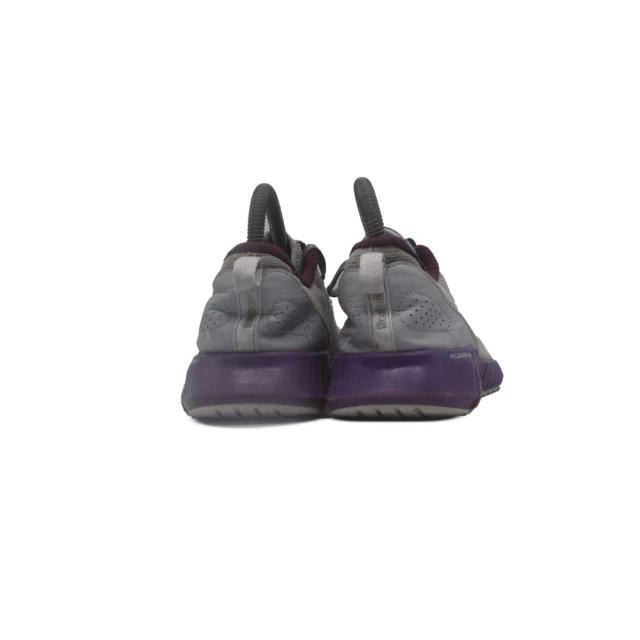heel: (332, 232, 474, 352), (190, 225, 318, 350)
midsole: (180, 347, 510, 424)
